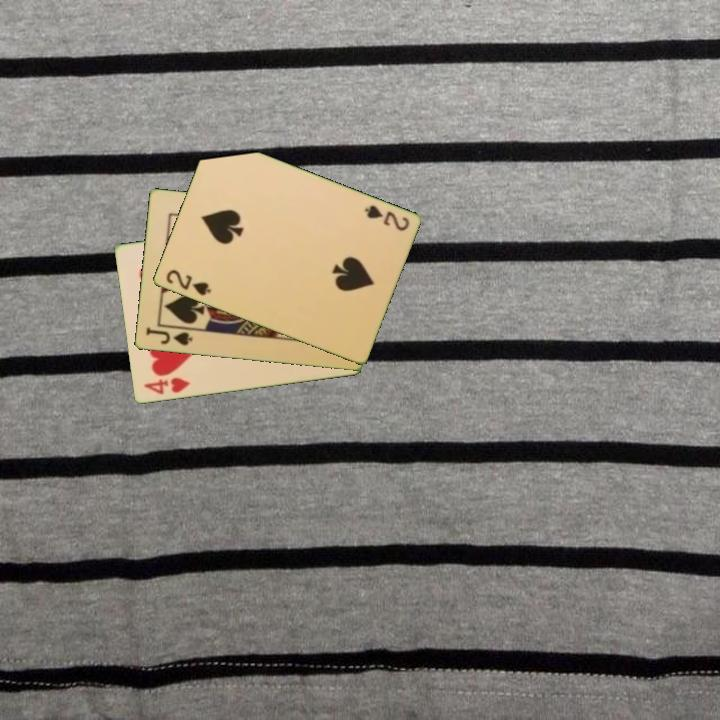2s: (162, 266, 214, 299), (361, 202, 412, 234)
4h: (140, 374, 193, 398)
Js: (142, 324, 195, 349)
